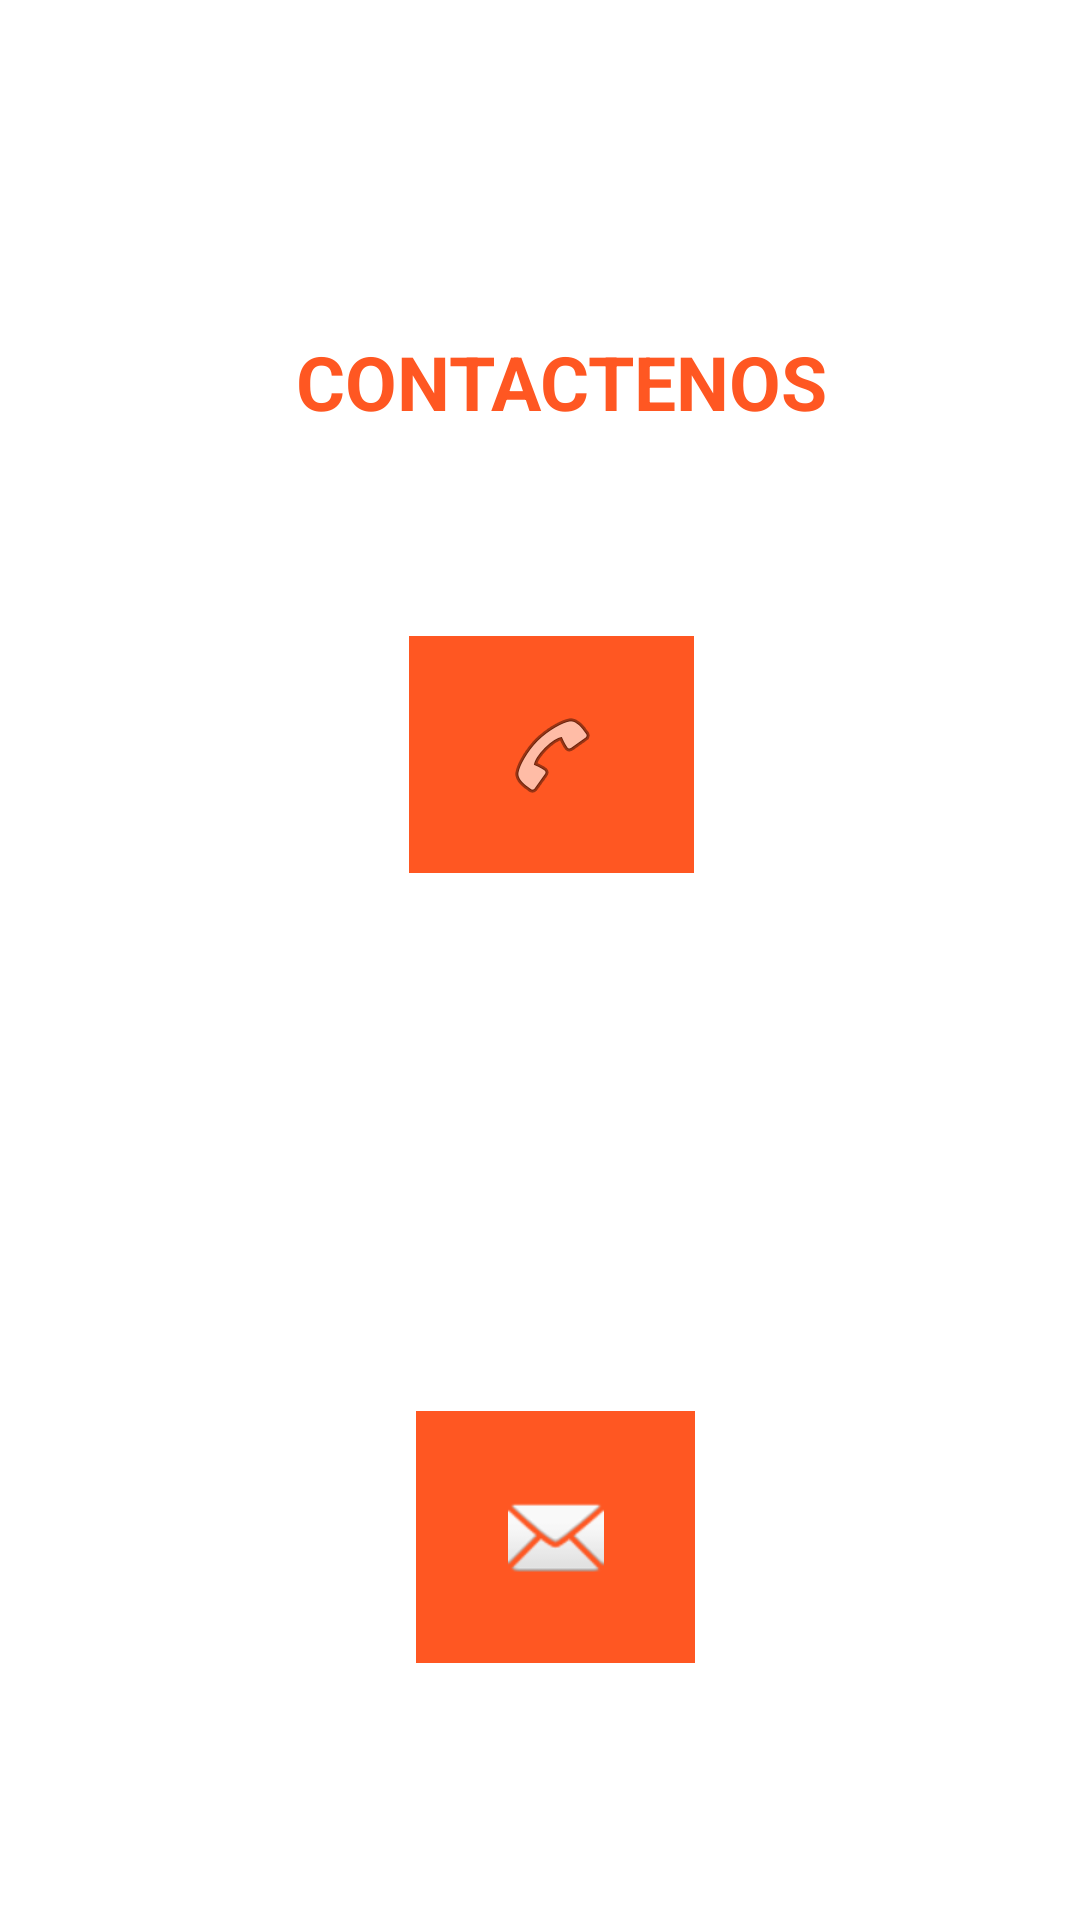

Point at icon controls on the screen. Image size 1080×1920, points as (x=x, y=y).
call: (x=551, y=754)
email: (x=555, y=1537)
